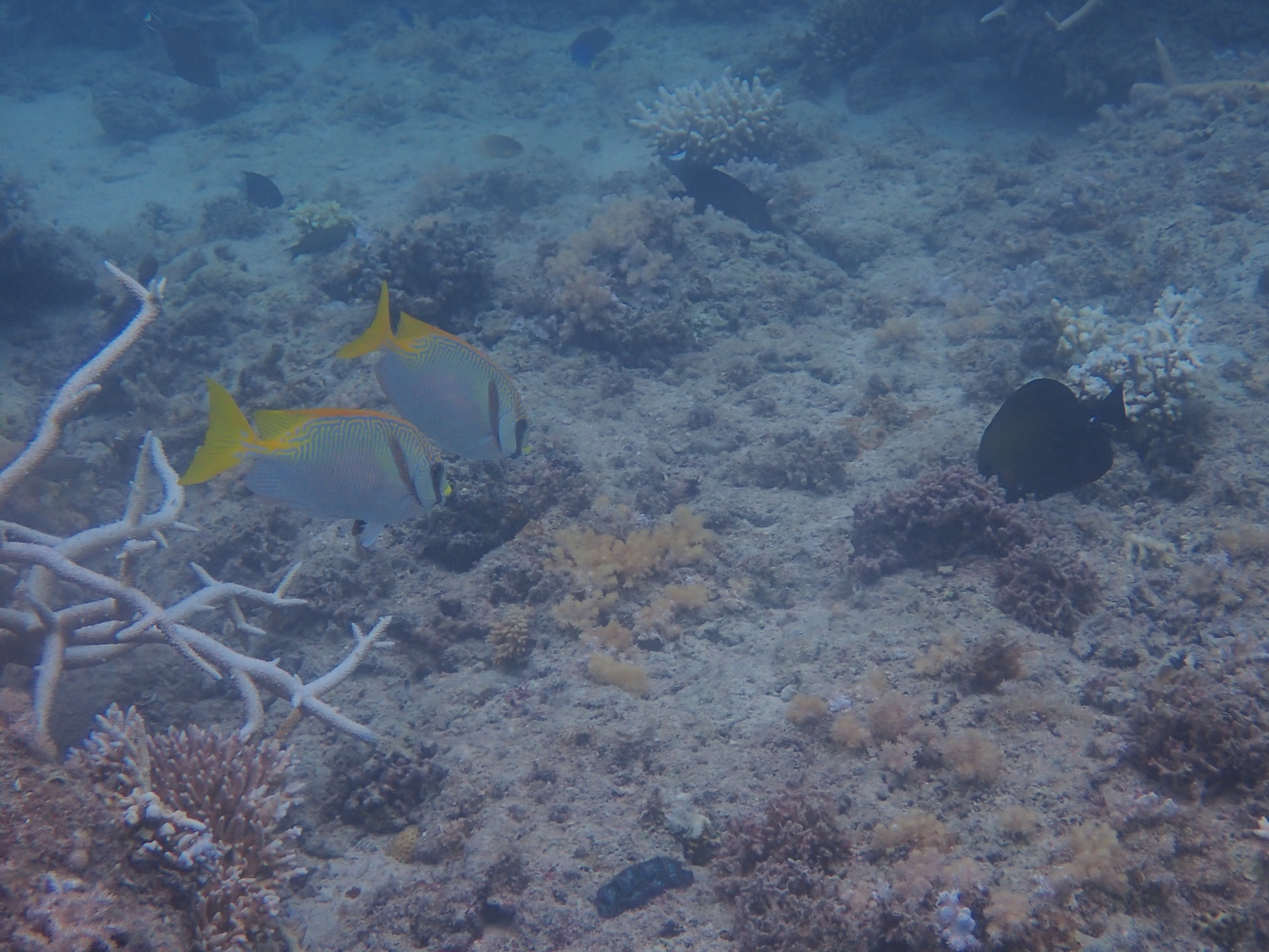fishbody: (179, 375, 465, 530), (339, 284, 535, 466)
fishhead: (387, 421, 464, 518), (486, 377, 538, 468)
